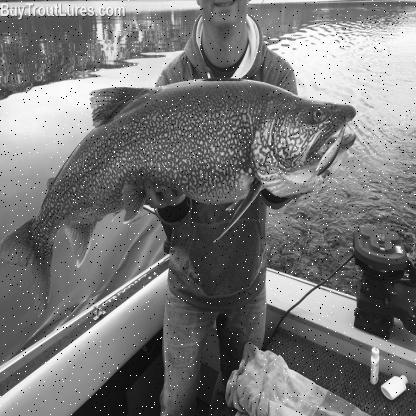fish: (0, 78, 358, 318)
